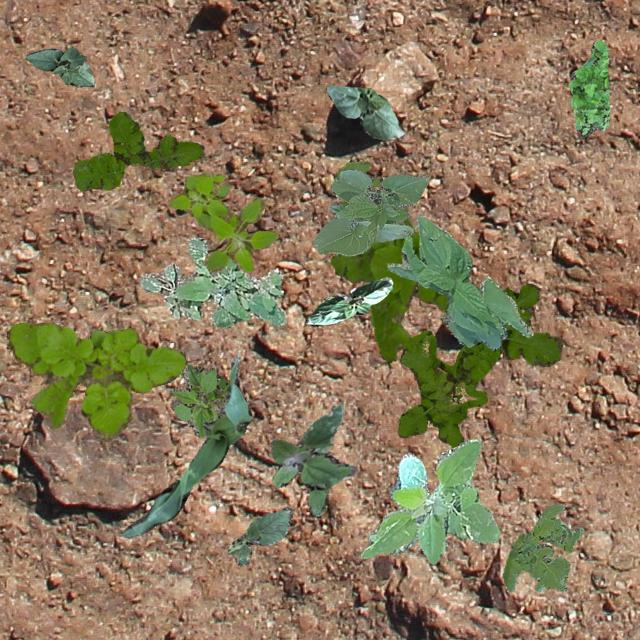crop: (122, 352, 250, 536), (387, 213, 531, 349), (359, 438, 498, 562), (312, 168, 428, 255), (324, 84, 404, 138), (304, 276, 390, 324), (228, 506, 292, 566), (24, 46, 94, 85)
weed: (396, 283, 562, 447), (329, 160, 446, 362), (6, 322, 186, 442), (138, 236, 284, 326), (73, 110, 204, 190), (170, 172, 276, 270), (270, 404, 356, 516), (502, 502, 582, 592), (168, 363, 228, 438), (568, 38, 608, 136)
